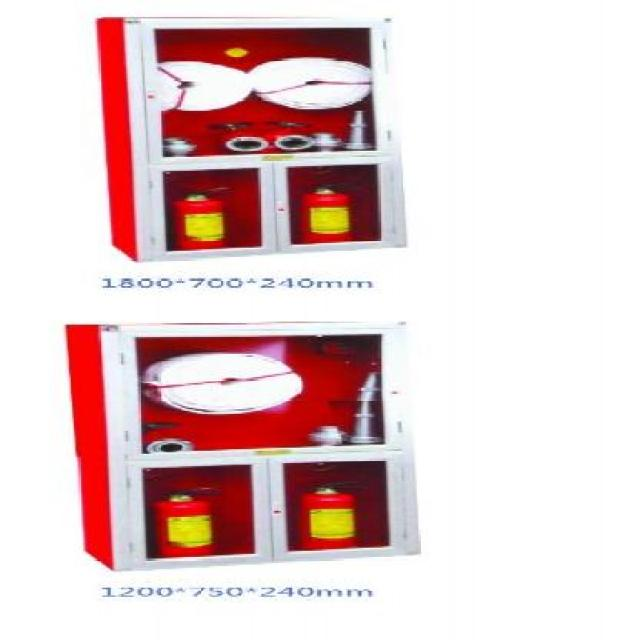firehydrant: (59, 314, 432, 578), (85, 12, 419, 270)
